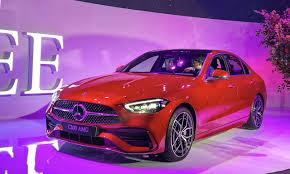mercedes: (71, 101, 88, 121)
